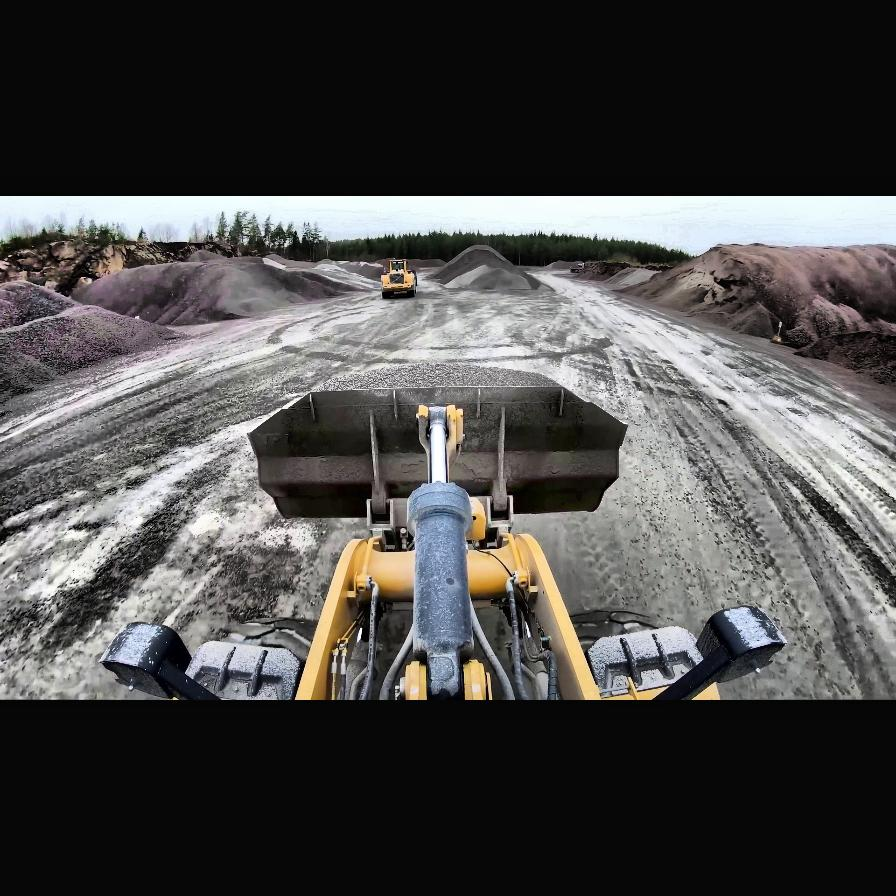anchor: (417, 404, 465, 482)
pile of gravel: (618, 238, 895, 398), (0, 281, 190, 402), (70, 252, 358, 328), (622, 250, 734, 308), (426, 244, 540, 292), (0, 280, 74, 330), (328, 259, 393, 281)
